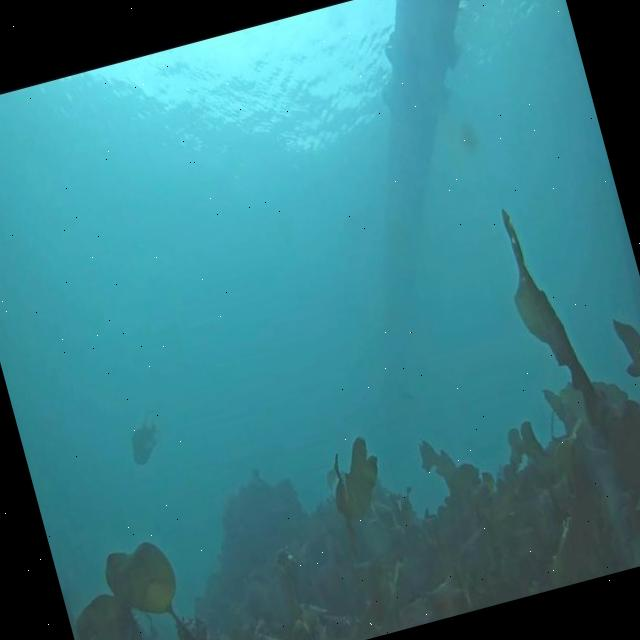fish: (120, 411, 168, 469)
